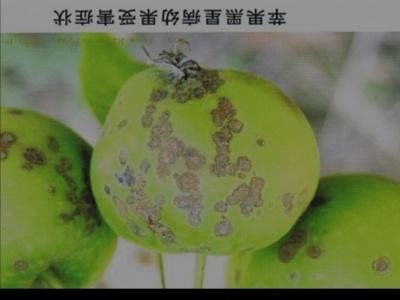rotten apple: (88, 61, 322, 252), (0, 105, 120, 287), (227, 172, 399, 287)
